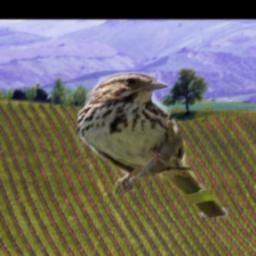Sparrow: (78, 73, 229, 218)
